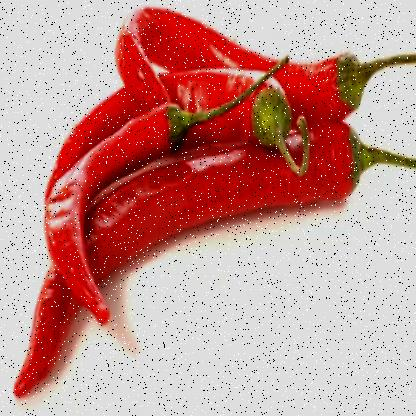chili: (13, 19, 384, 365)
